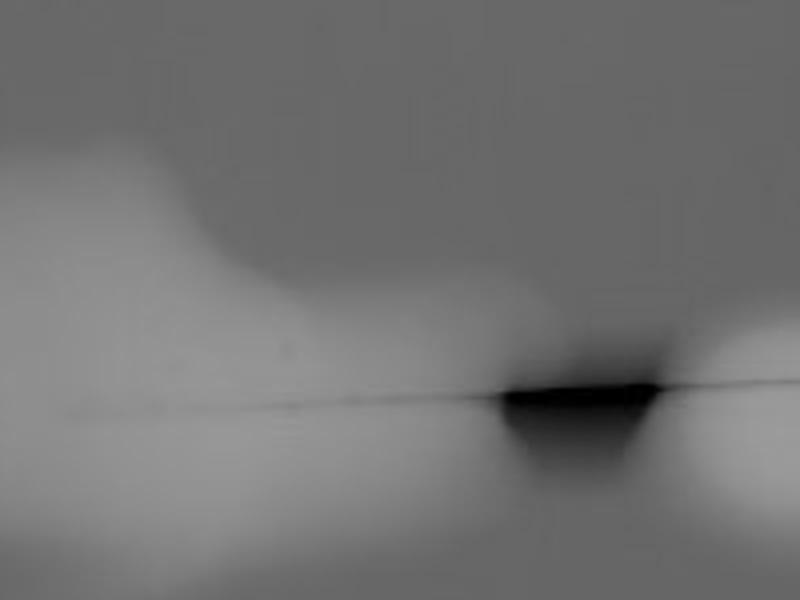defect: (501, 384, 663, 458)
